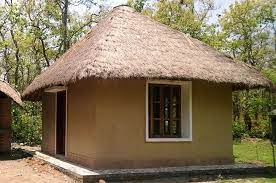Mud House: (23, 3, 265, 174)
